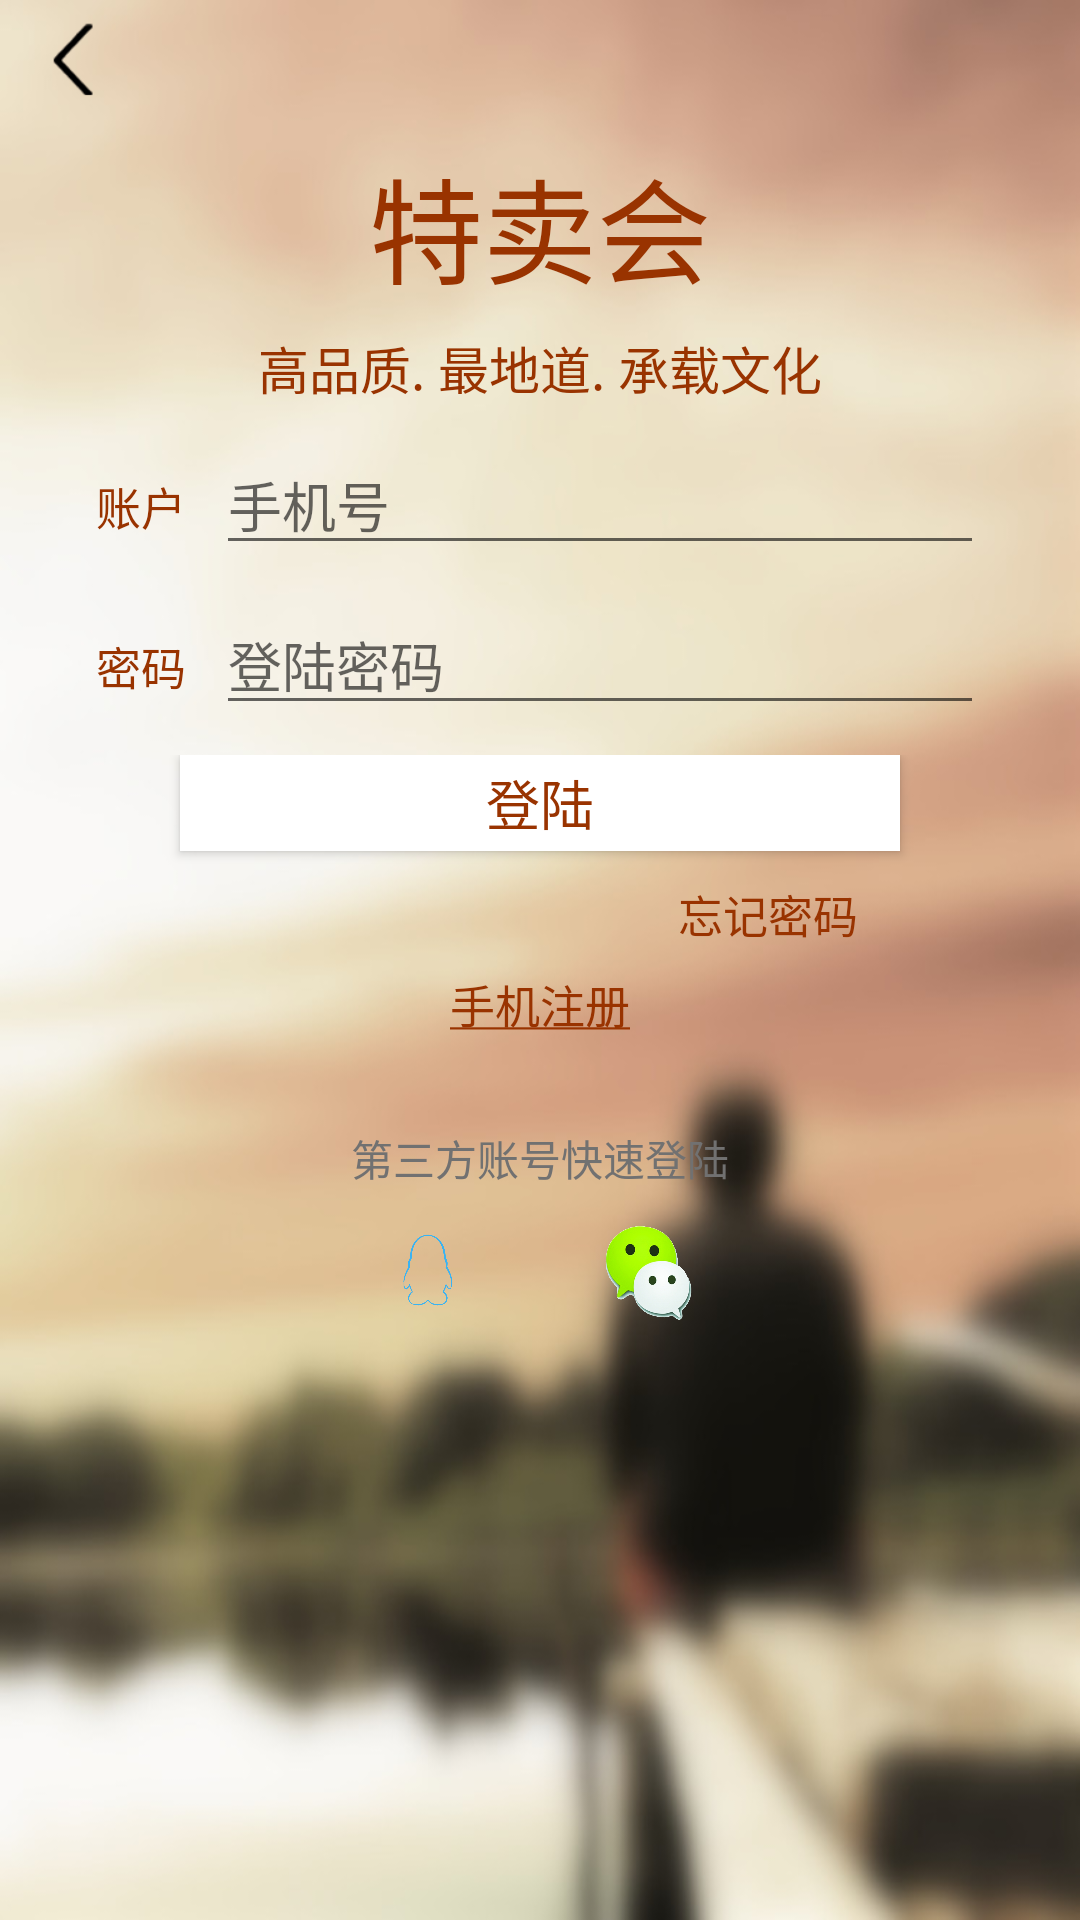

Screen size 1080w x 1920h. Icon name, then its box in pixels as (x1, y1, x2, y2):
back: (53, 23, 93, 96)
